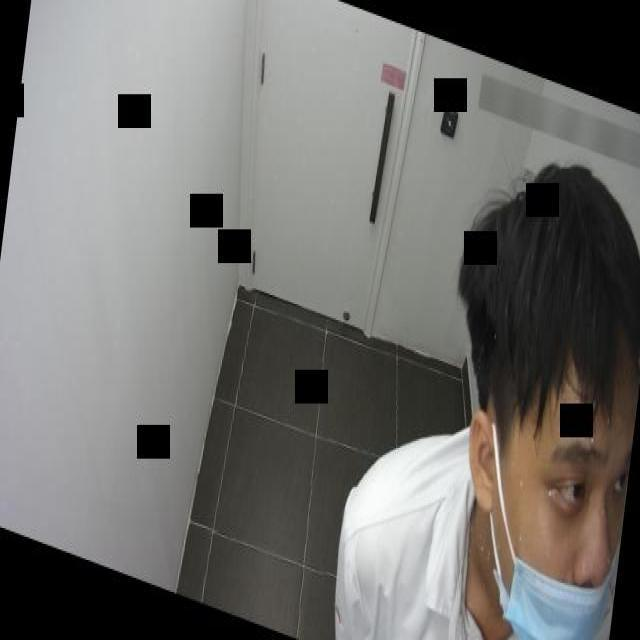hairnet: (519, 423, 640, 640)
